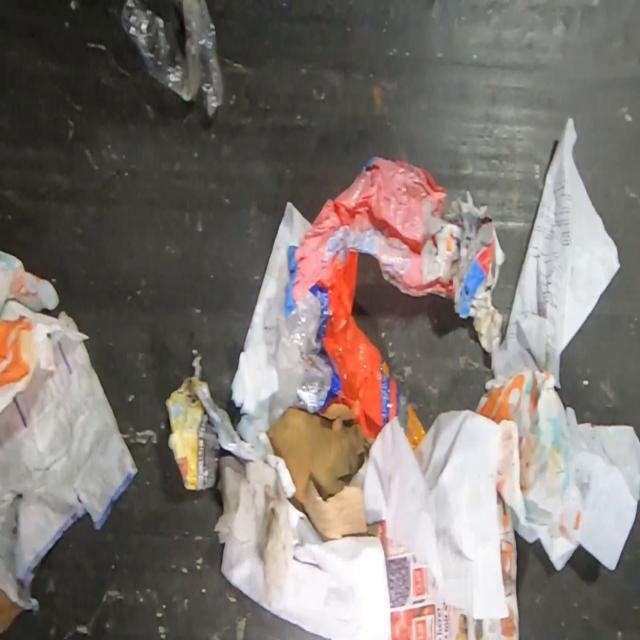cardboard: (268, 403, 382, 543)
soft_plastic: (279, 156, 454, 451)
